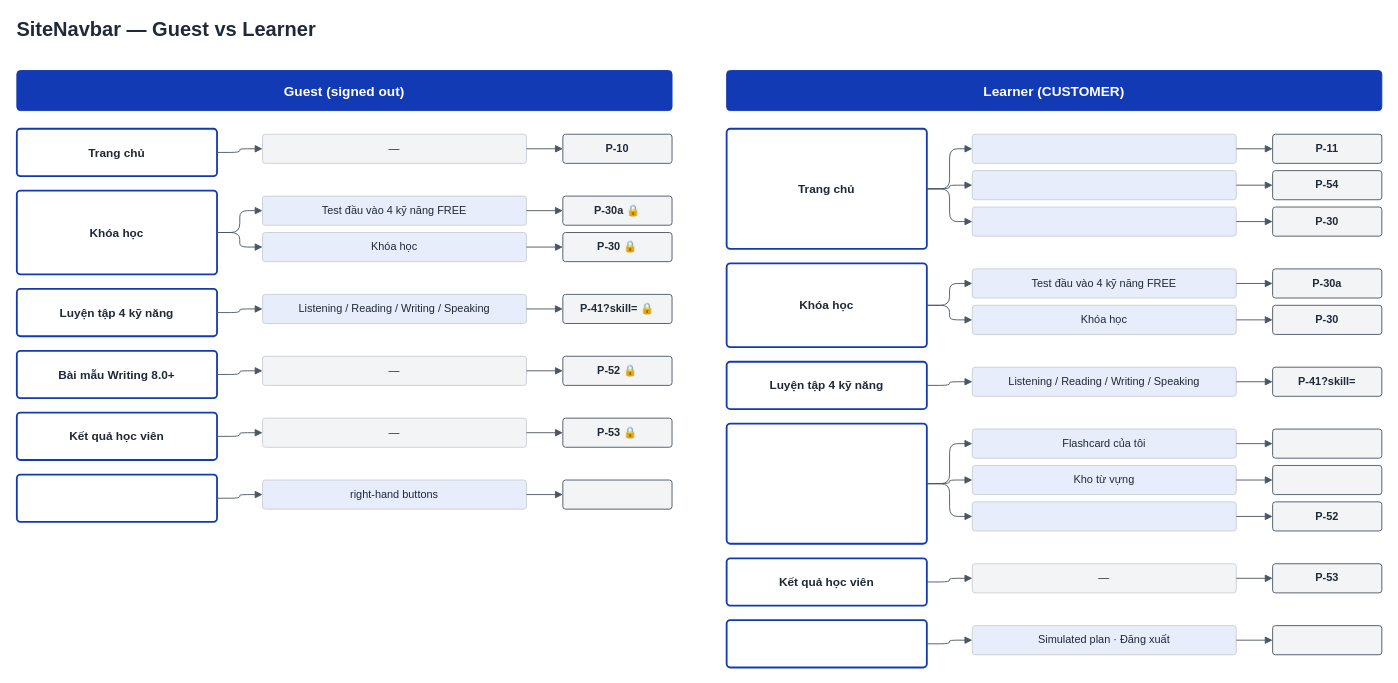
The diagram is 1398 pixels wide and 683 high, and some of its shapes have lost their labels. Here are the shapes that lost their labels. From the top down, the box of each, then its label:
(971, 133, 1236, 163): Dashboard
(971, 170, 1236, 200): Lịch sử nộp bài
(971, 206, 1236, 236): Khóa học của tôi
(1272, 428, 1382, 458): P-51
(15, 473, 217, 522): [Đăng nhập] [Đăng ký]
(562, 479, 672, 509): P-01 / P-02
(725, 422, 927, 544): Sổ từ vựng
(1272, 465, 1382, 495): P-50
(971, 501, 1236, 531): Bài mẫu 8đ
(725, 619, 927, 668): ◯ Học viên · Points ▾
(1272, 625, 1382, 655): → P-01
